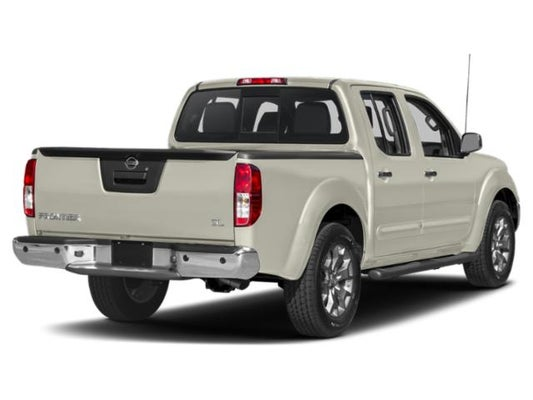car: (14, 78, 521, 338)
